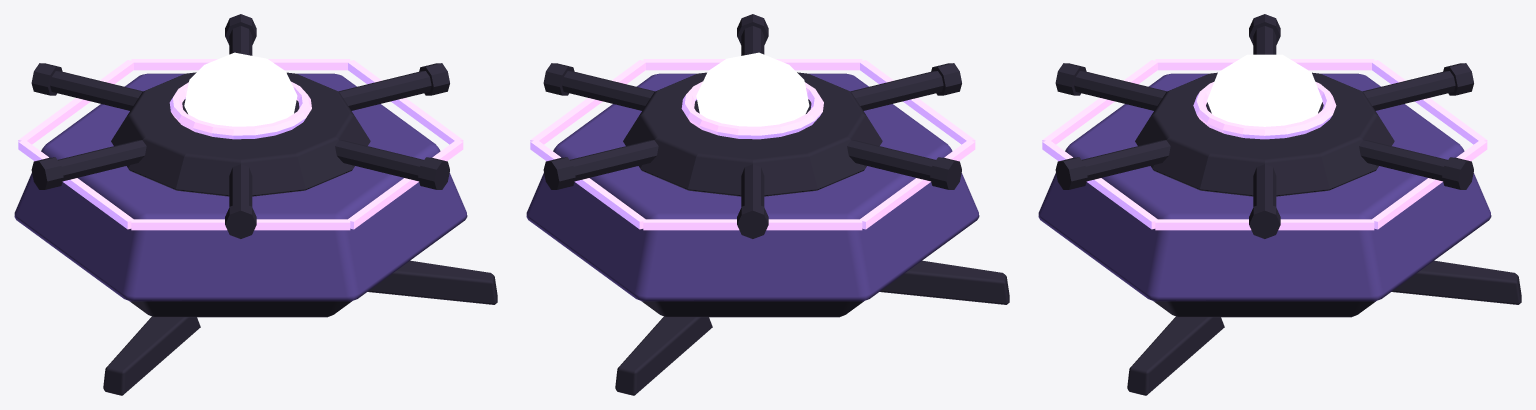
The model's file is turret.glb.
3 views of the same model, side by side, from view 1: azimuth 30°, elevation 25°; view 2: azimuth 150°, elevation 25°; view 3: azimuth 270°, elevation 25° (orthographic).
Parts seen in each view (by area): view 1: turret_drum, turret_crown_ring, turret_barrels, turret_trim, turret_legs, turret_core, turret_skirt, turret_core_cage; view 2: turret_drum, turret_crown_ring, turret_barrels, turret_trim, turret_legs, turret_core, turret_skirt, turret_core_cage; view 3: turret_drum, turret_crown_ring, turret_barrels, turret_trim, turret_legs, turret_core, turret_skirt, turret_core_cage.
Part boxes in pixels (left/top/right/bottom): turret_drum: left=14, top=73, right=467, bottom=301; turret_crown_ring: left=111, top=72, right=370, bottom=196; turret_barrels: left=31, top=14, right=449, bottom=238; turret_trim: left=18, top=59, right=463, bottom=230; turret_legs: left=103, top=260, right=497, bottom=395; turret_core: left=184, top=52, right=297, bottom=126; turret_skirt: left=129, top=301, right=351, bottom=317; turret_core_cage: left=169, top=81, right=311, bottom=139; turret_drum: left=526, top=73, right=979, bottom=301; turret_crown_ring: left=623, top=72, right=882, bottom=196; turret_barrels: left=543, top=14, right=961, bottom=238; turret_trim: left=530, top=59, right=975, bottom=230; turret_legs: left=615, top=260, right=1009, bottom=395; turret_core: left=696, top=52, right=809, bottom=126; turret_skirt: left=641, top=301, right=863, bottom=317; turret_core_cage: left=681, top=81, right=823, bottom=139; turret_drum: left=1038, top=73, right=1491, bottom=301; turret_crown_ring: left=1135, top=72, right=1394, bottom=196; turret_barrels: left=1055, top=14, right=1473, bottom=238; turret_trim: left=1042, top=59, right=1487, bottom=230; turret_legs: left=1127, top=260, right=1521, bottom=395; turret_core: left=1207, top=54, right=1322, bottom=126; turret_skirt: left=1153, top=301, right=1375, bottom=317; turret_core_cage: left=1193, top=81, right=1336, bottom=139.
Size of the model in its own units: 4.42 by 2.54 by 4.59.
